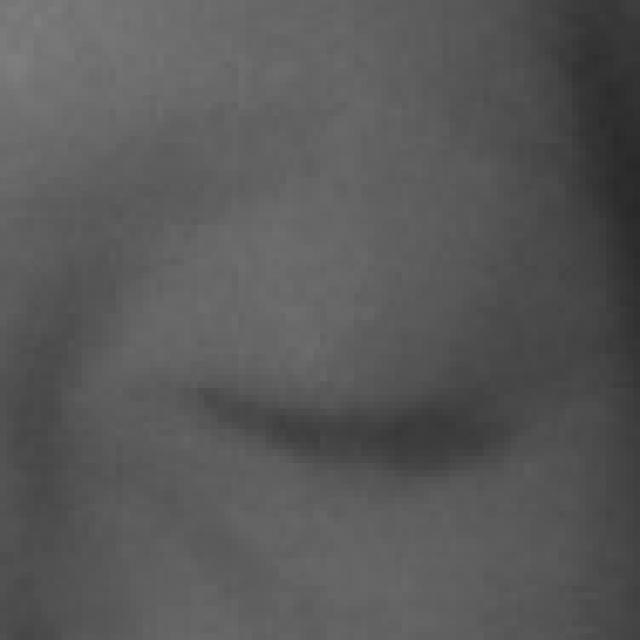Eyeclosed: (188, 249, 503, 596)
